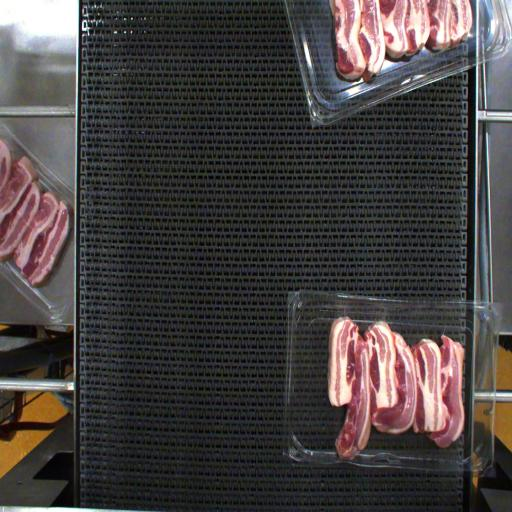packaging-error: (333, 284, 356, 321), (337, 442, 358, 478), (378, 295, 396, 336)
